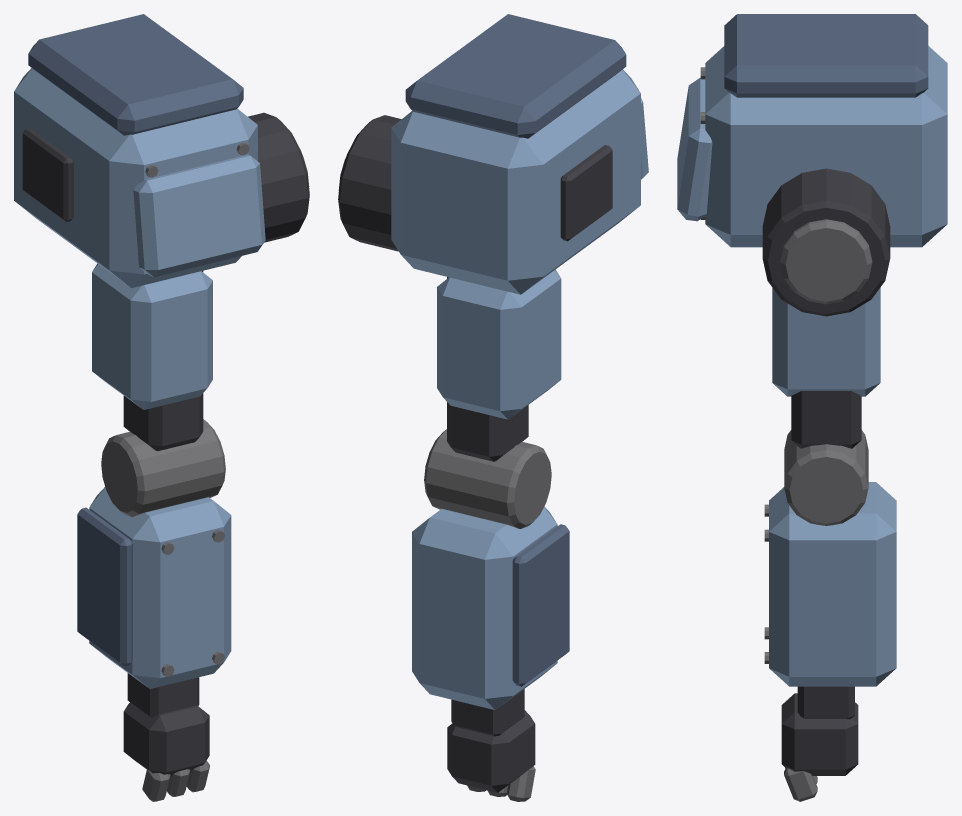
Rendered from recon_arm_r.glb.
3 renders of one model, left to right at view 1: azimuth 30°, elevation 25°; view 2: azimuth 150°, elevation 25°; view 3: azimuth 270°, elevation 25°, orthographic. The views are drawn at different scales.
Visible parts, largest first — view 1: PauldronR, ForearmR, PauldronTopR, UpperArmR, PauldronFrontR, ElbowJointR, ForearmPlateR, ShoulderJointR, HandR, PauldronVentR, UpperArmFrameR, WristR (+1 smaller); view 2: PauldronR, ForearmR, PauldronTopR, UpperArmR, ElbowJointR, ForearmPlateR, ShoulderJointR, HandR, PauldronVentR, UpperArmFrameR, WristR, FingerR2; view 3: PauldronR, ForearmR, PauldronTopR, ShoulderJointR, UpperArmR, ElbowJointR, ShoulderCapR, HandR, UpperArmFrameR, PauldronFrontR, WristR, FingerR0.
Part boxes in pixels (bbox=[...]): PauldronR: bbox=[14, 68, 257, 287]; ForearmR: bbox=[89, 487, 231, 688]; PauldronTopR: bbox=[28, 14, 243, 135]; UpperArmR: bbox=[92, 263, 212, 409]; PauldronFrontR: bbox=[133, 154, 265, 277]; ElbowJointR: bbox=[101, 419, 225, 516]; ForearmPlateR: bbox=[77, 507, 132, 666]; ShoulderJointR: bbox=[248, 112, 309, 242]; HandR: bbox=[123, 702, 209, 776]; PauldronVentR: bbox=[22, 128, 73, 221]; UpperArmFrameR: bbox=[123, 271, 203, 451]; WristR: bbox=[127, 673, 199, 717]; PauldronR: bbox=[391, 69, 640, 294]; ForearmR: bbox=[412, 506, 557, 709]; PauldronTopR: bbox=[405, 14, 626, 138]; UpperArmR: bbox=[437, 269, 561, 419]; ElbowJointR: bbox=[424, 429, 551, 528]; ForearmPlateR: bbox=[512, 524, 569, 686]; ShoulderJointR: bbox=[338, 115, 401, 251]; HandR: bbox=[447, 710, 535, 792]; PauldronVentR: bbox=[560, 145, 612, 241]; UpperArmFrameR: bbox=[447, 277, 528, 461]; WristR: bbox=[451, 689, 524, 736]; FingerR2: bbox=[506, 766, 535, 801]; PauldronR: bbox=[705, 46, 947, 247]; ForearmR: bbox=[769, 482, 896, 686]; PauldronTopR: bbox=[724, 14, 928, 97]; ShoulderJointR: bbox=[762, 168, 890, 316]; UpperArmR: bbox=[772, 287, 880, 396]; ElbowJointR: bbox=[784, 430, 868, 525]; ShoulderCapR: bbox=[780, 219, 872, 304]; HandR: bbox=[781, 693, 858, 775]; UpperArmFrameR: bbox=[791, 391, 861, 448]; PauldronFrontR: bbox=[677, 77, 712, 221]; WristR: bbox=[797, 686, 854, 719]; FingerR0: bbox=[784, 768, 817, 801].
Size of the model in its own units: 2.15 by 6.38 by 2.12.
